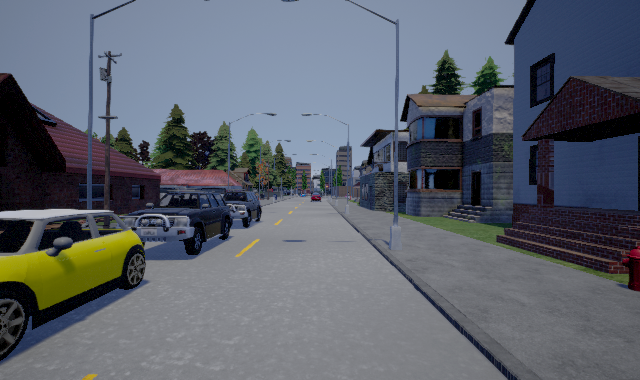vehicle: (1, 205, 148, 361), (125, 189, 233, 255), (223, 188, 264, 228)
